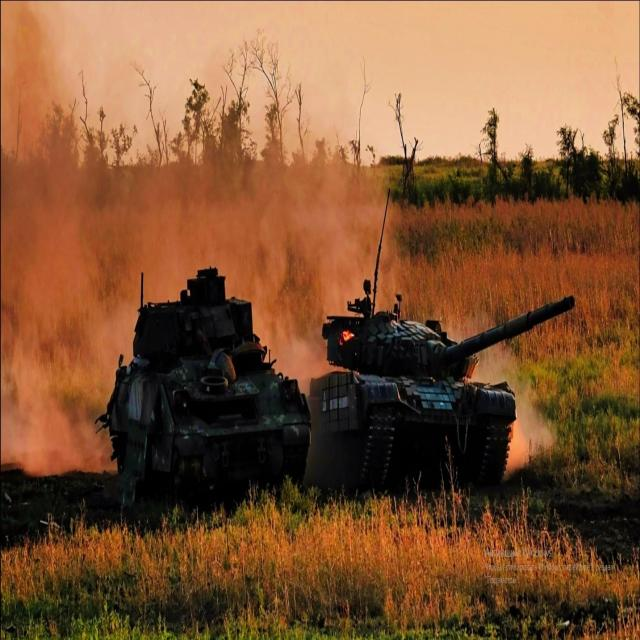AIFV: (98, 266, 314, 513)
MBT: (308, 279, 577, 497)
